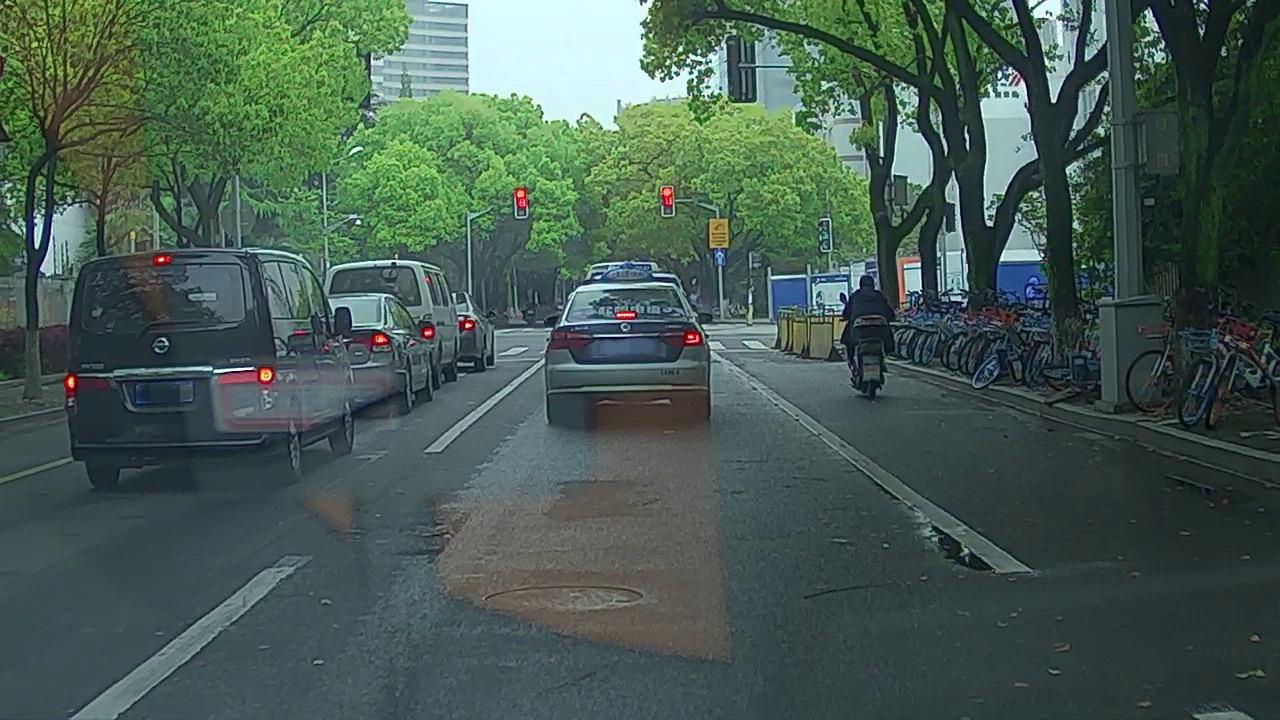traffic_light: (660, 185, 674, 215), (514, 188, 528, 217)
